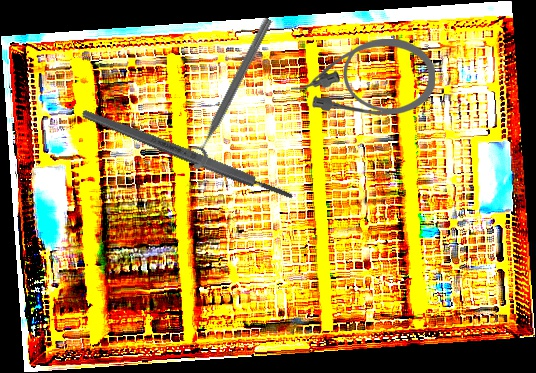Cannula: (291, 39, 435, 115)
Fixation Ring: (176, 10, 278, 172)
Scalpel Handle: (79, 106, 296, 204)
